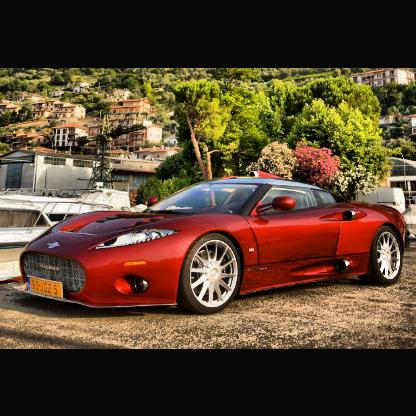Spyker C8 Coupe 2009: (15, 172, 409, 315)
